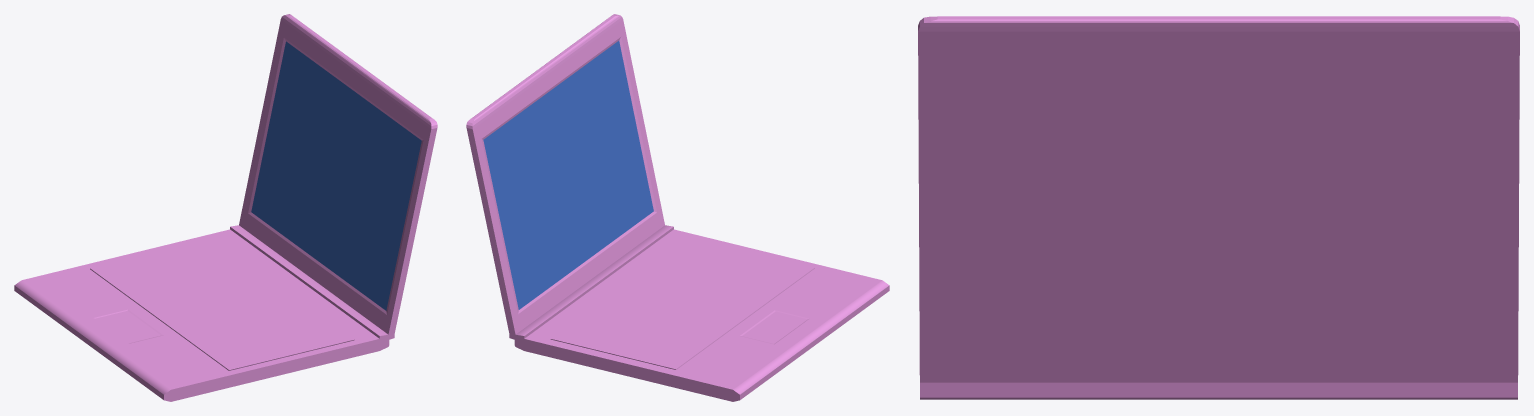
Rendered from SM_Notebook.fbx.
3 views of the same model, side by side, from view 1: azimuth 30°, elevation 25°; view 2: azimuth 150°, elevation 25°; view 3: azimuth 270°, elevation 25° (orthographic). The views are drawn at different scales.
Visible parts, largest first — view 1: SM_Notebook; view 2: SM_Notebook; view 3: SM_Notebook.
Part boxes in pixels (x1,y1,x2,y2): SM_Notebook: (14,14,437,401); SM_Notebook: (466,14,889,401); SM_Notebook: (918,16,1519,399).
Bounding box in the file's own units: 40.68 × 38.73 × 30.61.
Materials: 1 (1 with a texture image).
